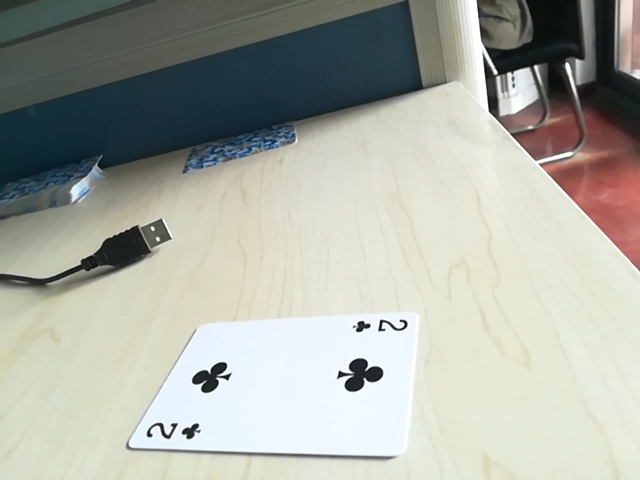mh 2: (139, 417, 206, 450), (348, 314, 409, 339)
